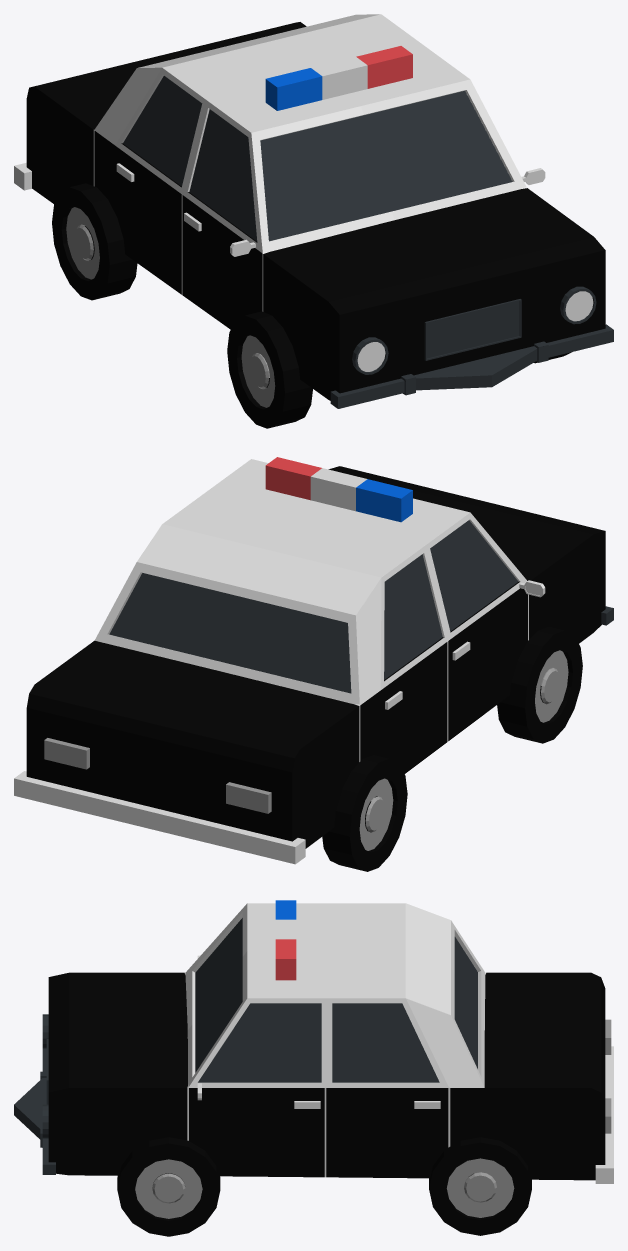
File: polisya_Simple_Rig.fbx
The picture shows the model from 3 angles, top to bottom: view 1: azimuth 30°, elevation 25°; view 2: azimuth 150°, elevation 25°; view 3: azimuth 270°, elevation 25°; orthographic projection. The views are drawn at different scales.
Visible parts, largest first — view 1: Body, Wheel.Frint.R, Wheel.Back.R; view 2: Body, Wheel.Frint.R, Wheel.Back.R; view 3: Body, Wheel.Front.L, Wheel.Back.L.
Part boxes in pixels (x1,y1,x2,y2): Body: (14, 14, 613, 408); Wheel.Frint.R: (227, 311, 312, 428); Wheel.Back.R: (52, 183, 137, 300); Body: (14, 457, 613, 864); Wheel.Frint.R: (497, 626, 582, 743); Wheel.Back.R: (322, 755, 407, 871); Body: (14, 900, 613, 1183); Wheel.Front.L: (117, 1137, 220, 1236); Wheel.Back.L: (429, 1137, 531, 1235).
Size of the model in its own units: 461 by 385 by 861.
